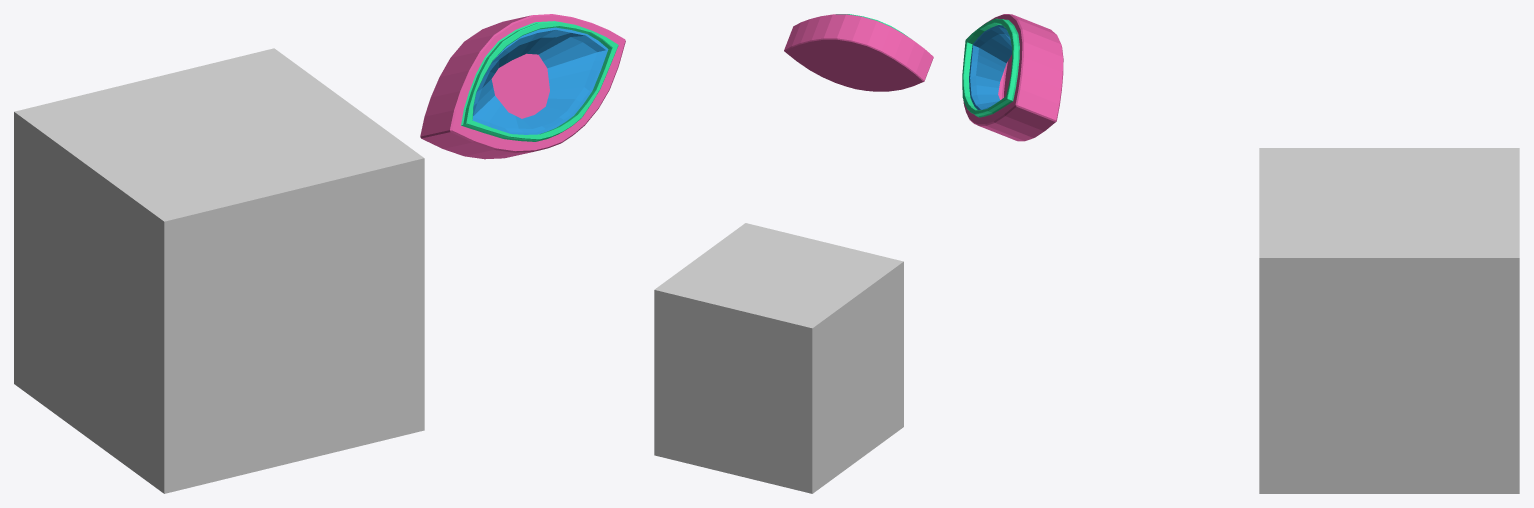
Rendered from N_Reye_Spite.fbx.
3 renders of one model, left to right at view 1: azimuth 30°, elevation 25°; view 2: azimuth 150°, elevation 25°; view 3: azimuth 270°, elevation 25°, orthographic. The views are drawn at different scales.
Parts seen in each view (by area): view 1: Cube, eye.002; view 2: Cube, eye.002; view 3: Cube, eye.002.
Boxes of the visible parts, left/top/right/bottom form: Cube: left=14, top=48, right=424, bottom=493; eye.002: left=420, top=14, right=625, bottom=159; Cube: left=654, top=223, right=903, bottom=493; eye.002: left=784, top=14, right=933, bottom=91; Cube: left=1259, top=148, right=1519, bottom=493; eye.002: left=962, top=14, right=1063, bottom=141.
Bounding box in the file's own units: 247 × 384 × 428.
